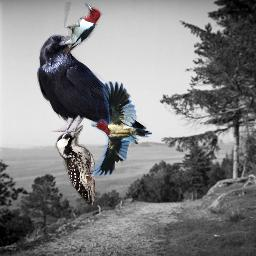Crow: (37, 34, 147, 146)
Woodpecker: (91, 81, 152, 176), (55, 125, 95, 205), (60, 2, 104, 57)
